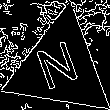N_S: (34, 37, 86, 98)
